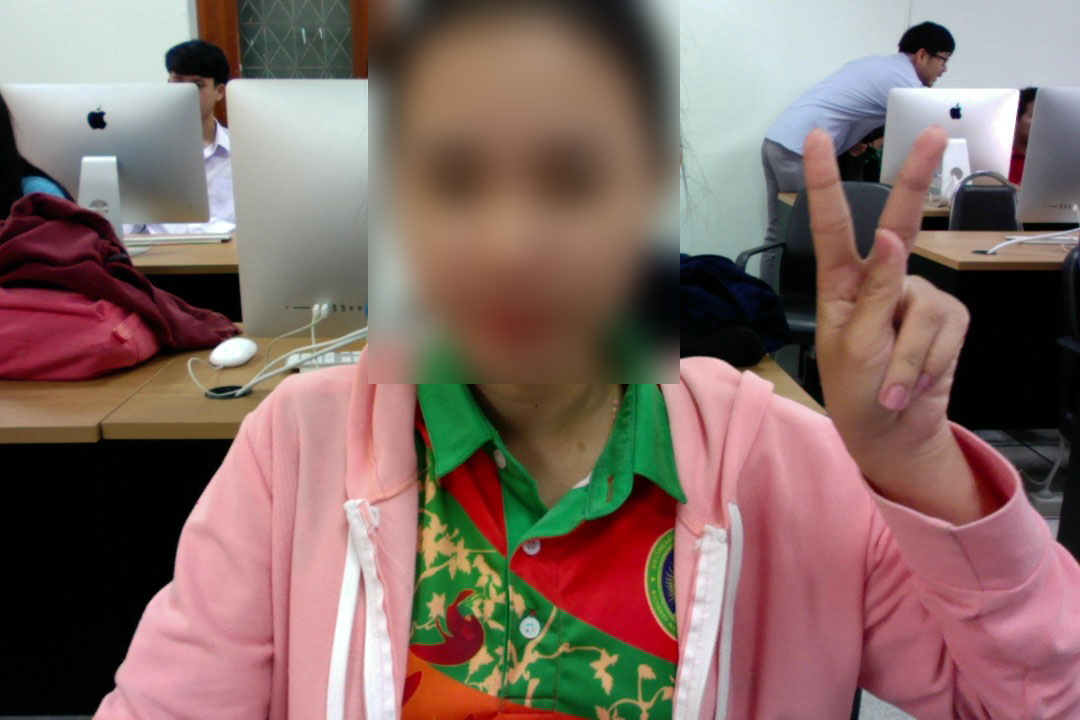ko: (784, 115, 980, 483)
